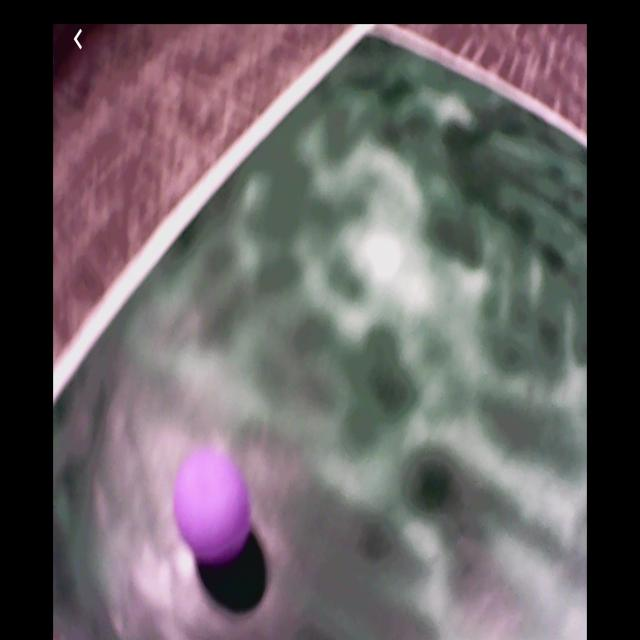ball: (174, 448, 251, 563)
